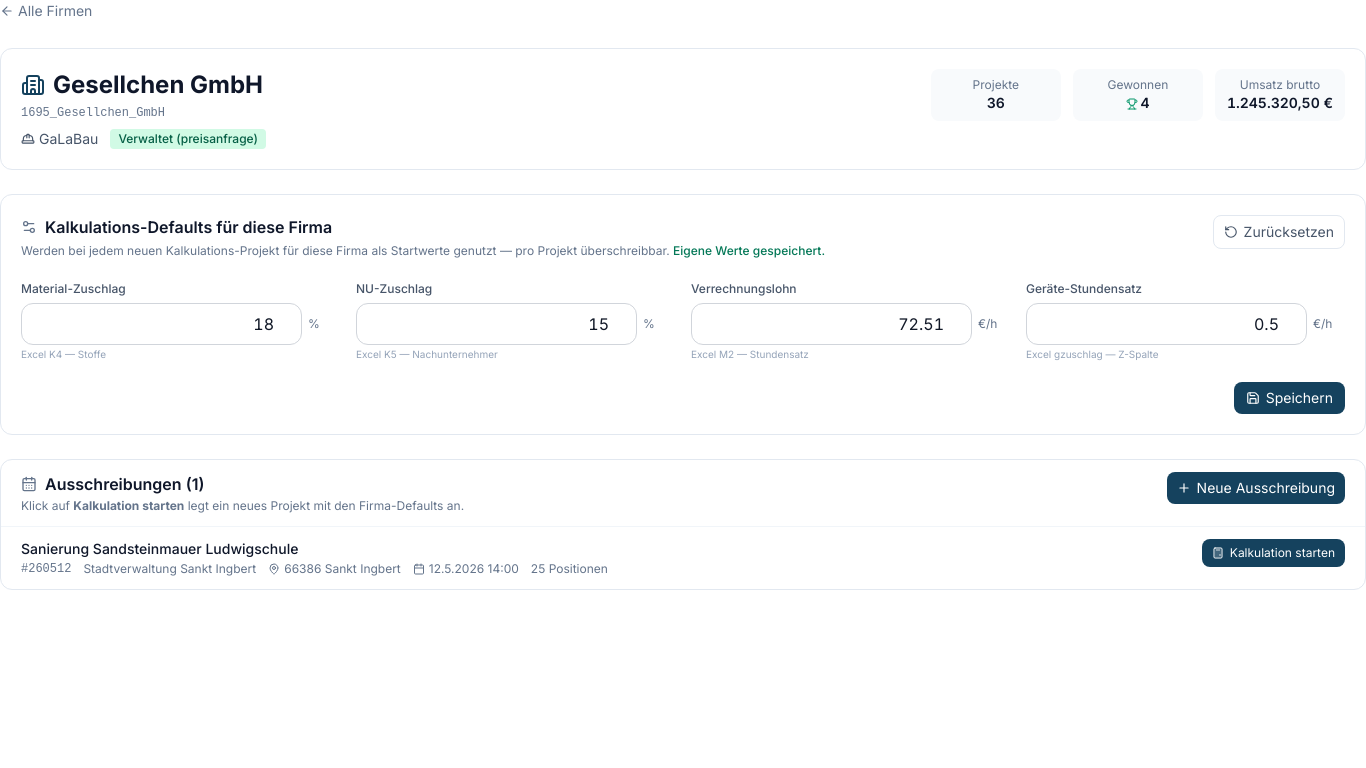
it: Firma.tsx — Round 11 local Ausschreibungen › clicking "Neue Ausschreibung" opens the modal with all fields
Expected: the text "Sanierung Sandsteinmauer Ludwigschule" is shown, 21,540 -> 298,557
What coordinates should you click on to do the following:
click the button with test id "auschreibung-new-button"
I would click on:
 (1256, 488)
Its box is 1167,472 -> 1345,504.
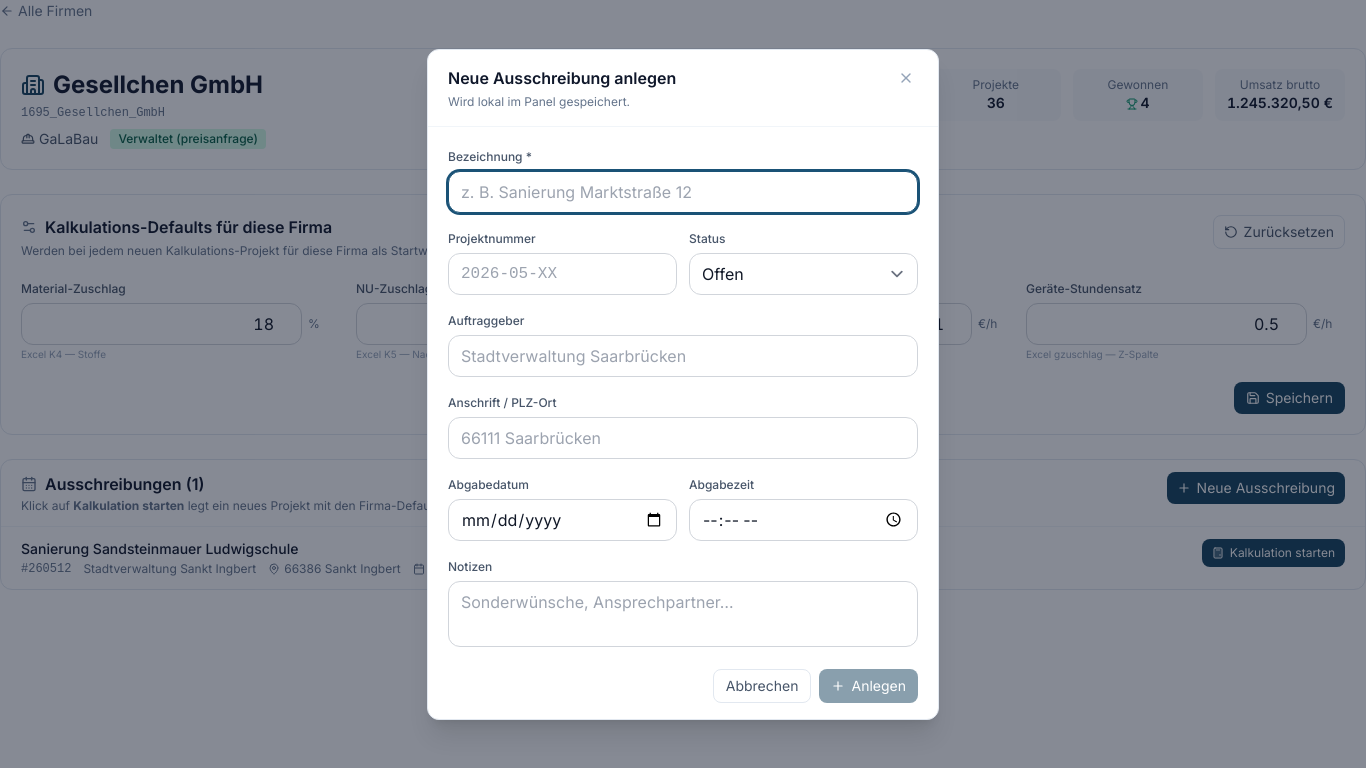
Expected: the dialog with test id "new-auschreibung-modal" is shown
Expected: the field with id "new-aus-name" is shown, 448,170 -> 918,212
Expected: the field with id "new-aus-num" is shown, 448,252 -> 677,294
